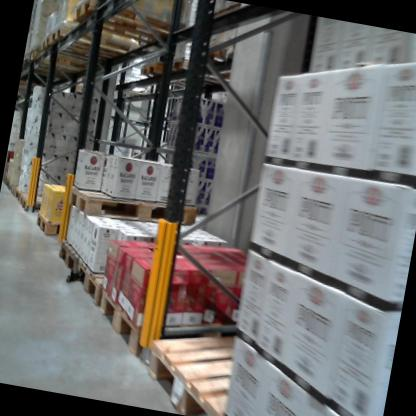pallet: (88, 285, 257, 388), (139, 302, 284, 416), (62, 173, 209, 243), (68, 0, 187, 51), (67, 254, 144, 320), (50, 17, 132, 59), (37, 29, 112, 74), (165, 49, 224, 84), (30, 43, 94, 73), (52, 235, 85, 279), (33, 209, 75, 241), (138, 56, 177, 87), (15, 191, 46, 220), (13, 186, 25, 205), (7, 183, 18, 199)
